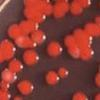red: (72, 26, 93, 47), (0, 38, 17, 62), (76, 45, 98, 63), (28, 27, 47, 46), (20, 49, 40, 67), (45, 39, 63, 59), (14, 35, 38, 50), (16, 78, 36, 96), (17, 0, 56, 8), (43, 69, 60, 87), (1, 66, 18, 84), (7, 23, 24, 40), (7, 57, 24, 73), (66, 43, 81, 61), (21, 6, 40, 19), (84, 22, 100, 37), (68, 0, 83, 16), (50, 5, 66, 20), (23, 19, 40, 33), (39, 3, 54, 17), (32, 11, 48, 24), (70, 90, 90, 100), (57, 65, 70, 80), (63, 35, 77, 48), (54, 2, 70, 13), (0, 78, 12, 92), (73, 0, 93, 8), (91, 72, 100, 88), (17, 20, 29, 32), (0, 89, 12, 100), (0, 44, 5, 66), (93, 14, 100, 27), (11, 94, 26, 100), (53, 0, 70, 5), (93, 90, 100, 100), (95, 64, 100, 77), (96, 0, 100, 10)
